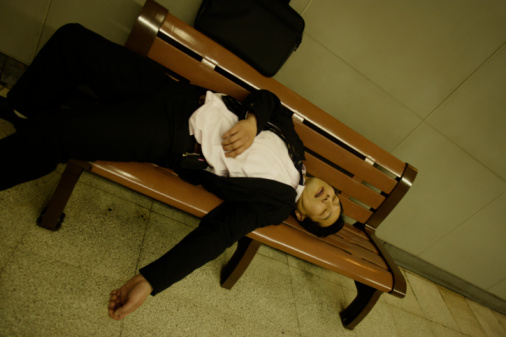deitado: (77, 54, 349, 326)
